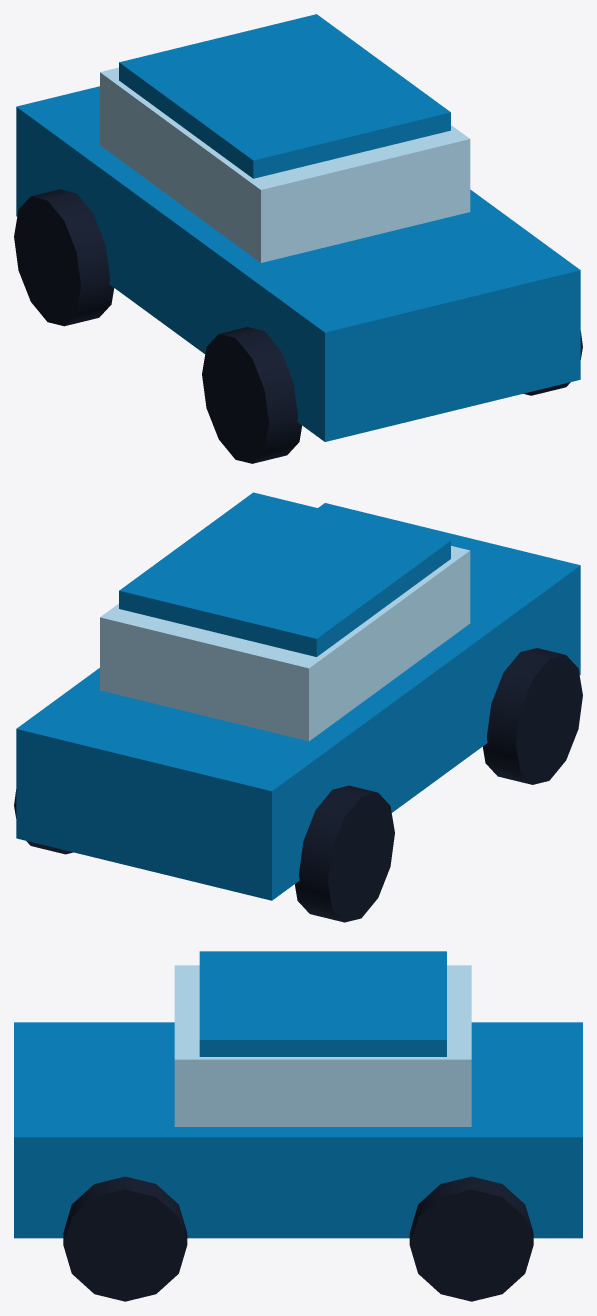
The model's file is vehicle_sedan.glb.
3 views of the same model, one above another, from view 1: azimuth 30°, elevation 25°; view 2: azimuth 150°, elevation 25°; view 3: azimuth 270°, elevation 25° (orthographic). The views are drawn at different scales.
Parts seen in each view (by area): view 1: Vehicle_Sedan; view 2: Vehicle_Sedan; view 3: Vehicle_Sedan.
Part boxes in pixels (box(x1,y1,x2,y2)): Vehicle_Sedan: box(14, 14, 582, 463); Vehicle_Sedan: box(14, 492, 582, 922); Vehicle_Sedan: box(14, 951, 582, 1301).
Bounding box in the file's own units: 0.27 × 0.21 × 0.46.
